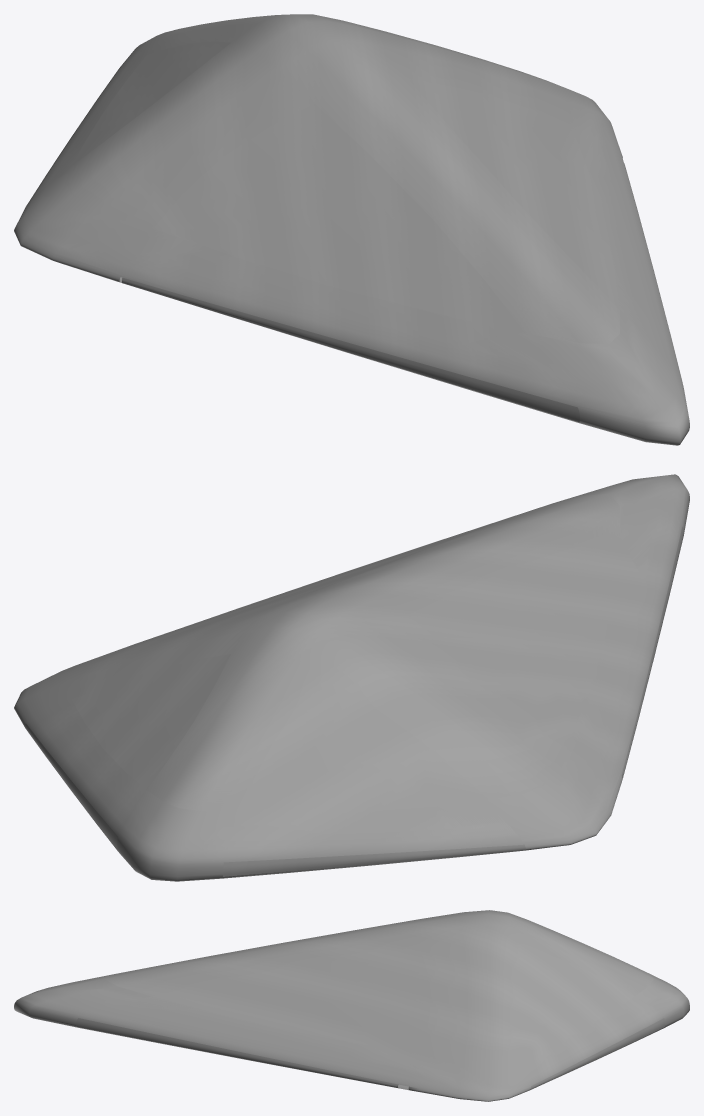
File: pul.fbx
3 views of the same model, one above another, from view 1: azimuth 30°, elevation 25°; view 2: azimuth 150°, elevation 25°; view 3: azimuth 270°, elevation 25° (orthographic). The views are drawn at different scales.
Parts seen in each view (by area): view 1: Plane; view 2: Plane; view 3: Plane.
Part boxes in pixels (x1=…): Plane: x1=14, y1=14, x2=689, y2=445; Plane: x1=14, y1=474, x2=689, y2=881; Plane: x1=14, y1=910, x2=689, y2=1101.
Bounding box in the file's own units: 161 × 41.33 × 257.
